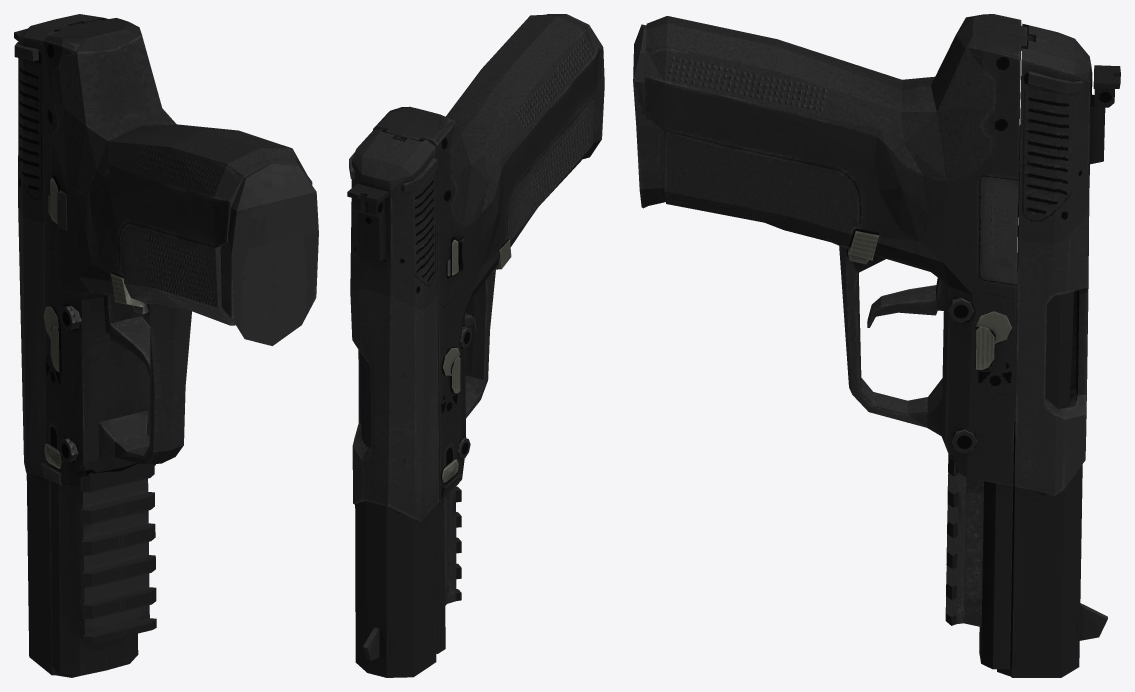
File: w_pist_fiveseven.obj
The picture shows the model from 3 angles, left to right: view 1: azimuth 30°, elevation 25°; view 2: azimuth 150°, elevation 25°; view 3: azimuth 270°, elevation 25°; orthographic projection. The views are drawn at different scales.
Bounding box in the file's own units: 0.0132 × 0.0808 × 0.0562.
1 material, 1 textured.
